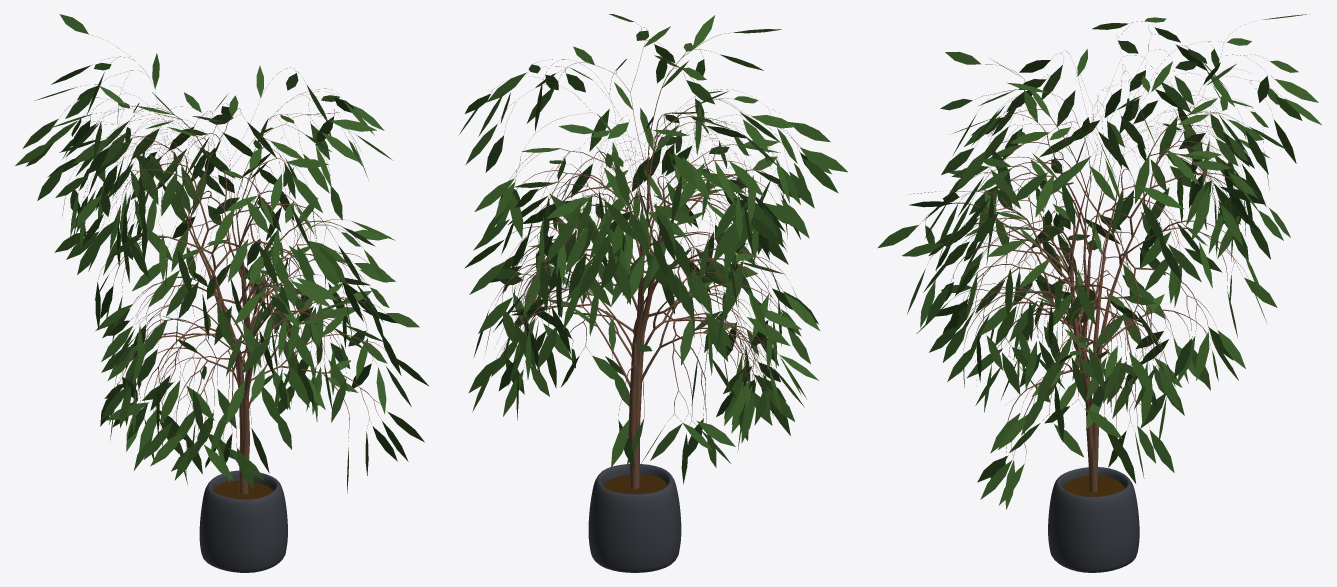
Rendered from Plant-1.fbx.
3 renders of one model, left to right at view 1: azimuth 30°, elevation 25°; view 2: azimuth 150°, elevation 25°; view 3: azimuth 270°, elevation 25°, orthographic. The views are drawn at different scales.
Visible parts, largest first — view 1: Leaves, Branches, Plant, Mud; view 2: Leaves, Branches, Plant, Mud; view 3: Leaves, Branches, Plant, Mud.
Boxes of the visible parts, x1=… form: Leaves: x1=15, y1=14, x2=428, y2=493; Branches: x1=55, y1=35, x2=389, y2=494; Plant: x1=199, y1=470, x2=287, y2=572; Mud: x1=213, y1=480, x2=272, y2=499; Leaves: x1=459, y1=14, x2=847, y2=484; Branches: x1=487, y1=24, x2=803, y2=489; Plant: x1=588, y1=464, x2=681, y2=572; Mud: x1=603, y1=474, x2=666, y2=494; Leaves: x1=877, y1=14, x2=1321, y2=509; Branches: x1=919, y1=21, x2=1281, y2=491; Plant: x1=1048, y1=467, x2=1139, y2=572; Mud: x1=1062, y1=475, x2=1124, y2=496.
Size of the model in its own units: 162 by 218 by 174.
